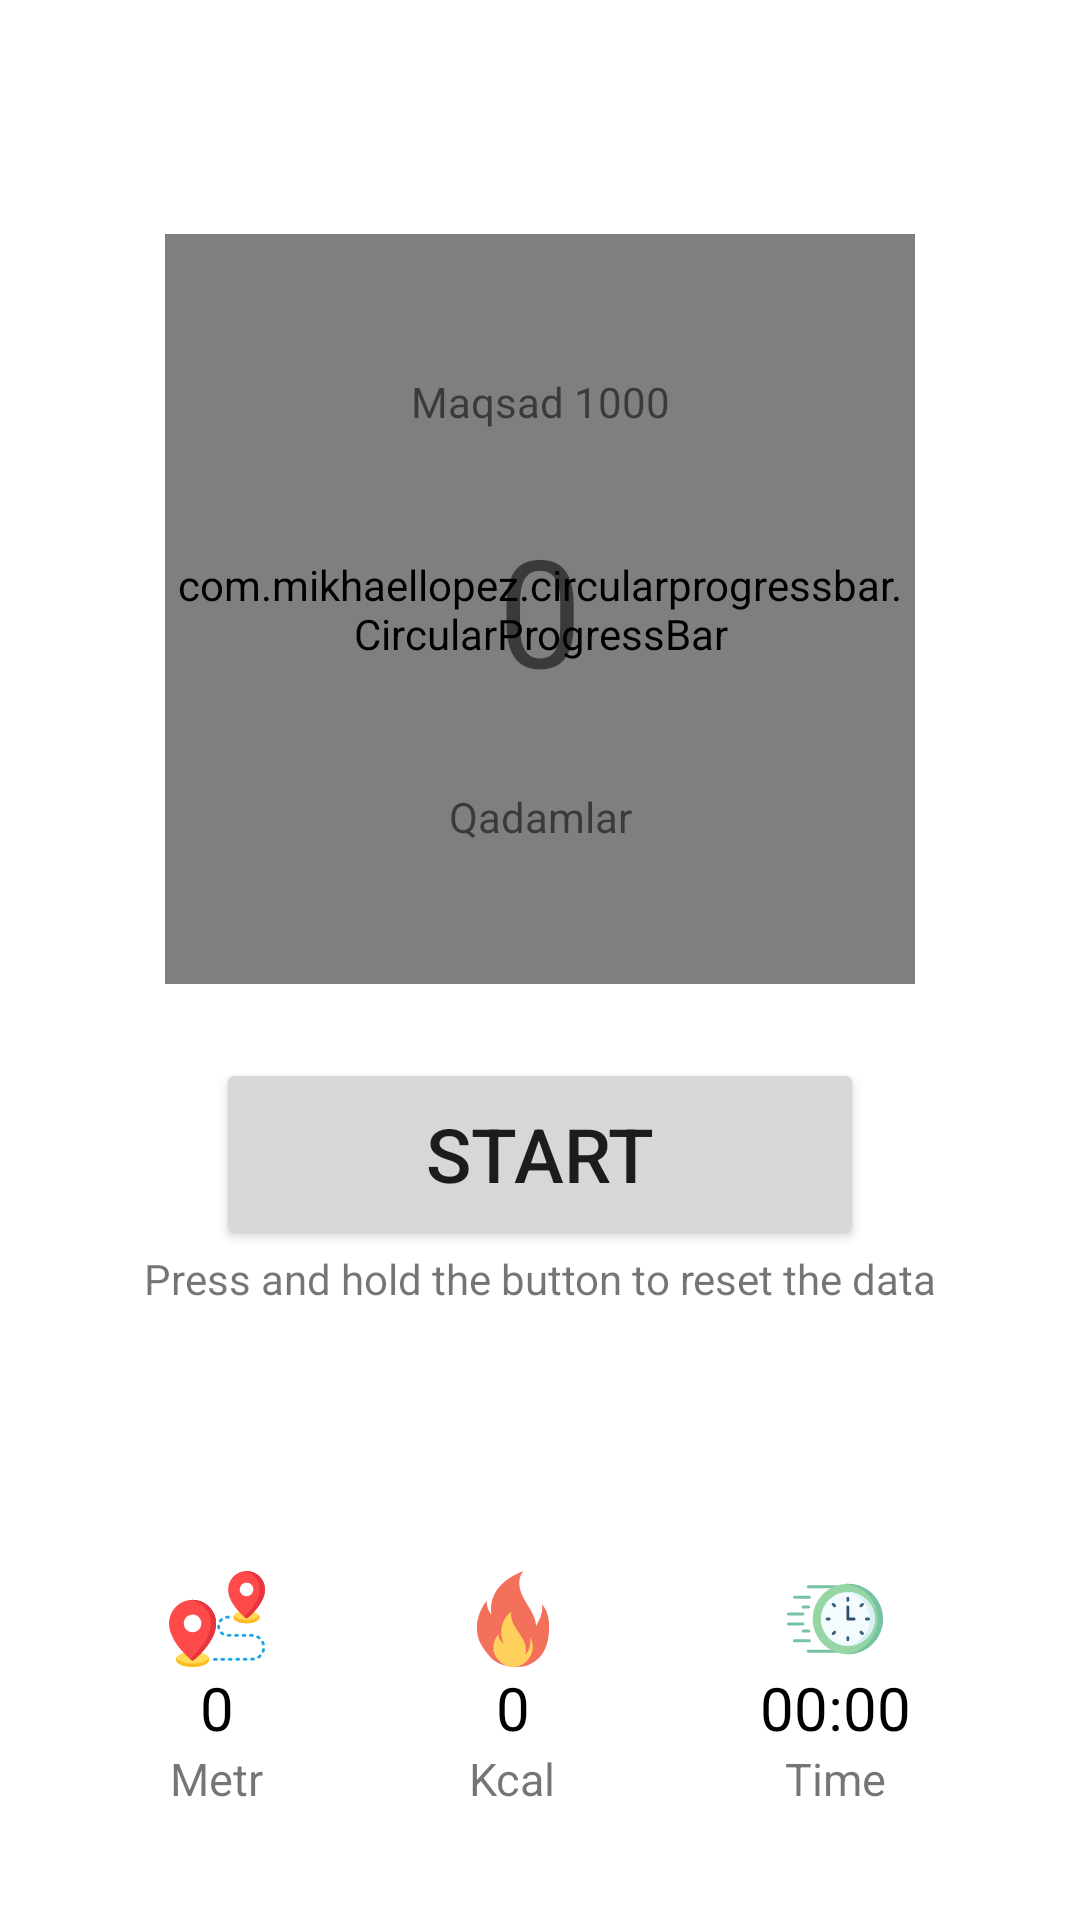

Screen size 1080 x 1920. Icon name, then its center in pixels as (x,y):
destination: (217,1619)
flame: (513,1619)
